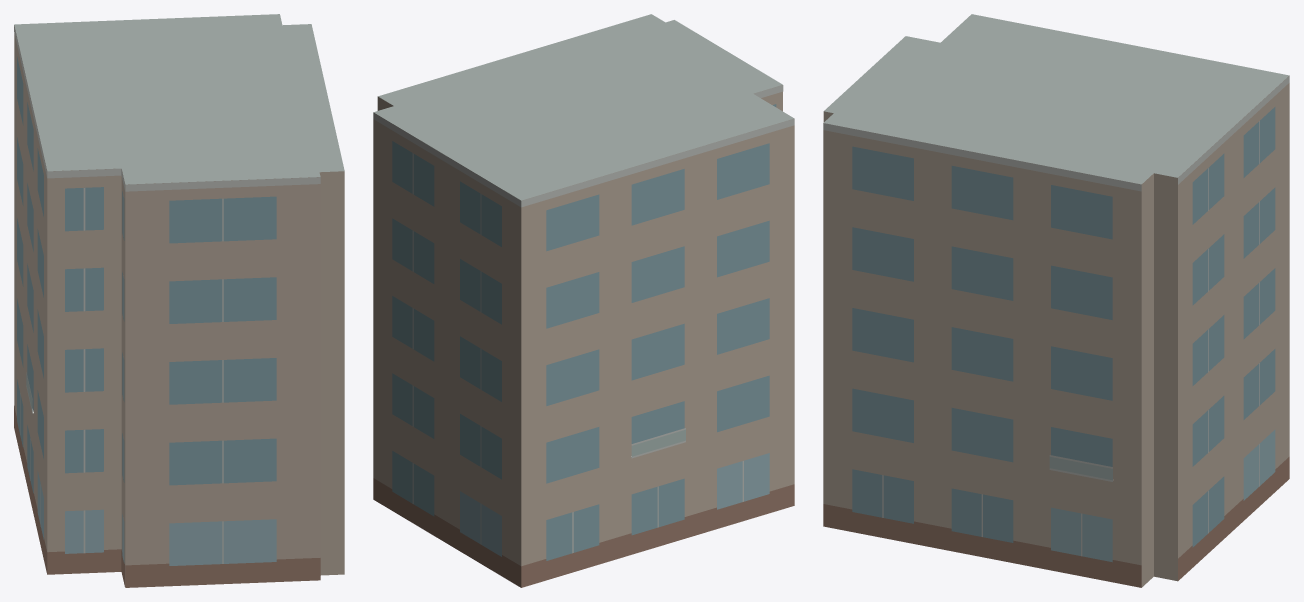
The model's file is survey-upis-32744679.glb.
The picture shows the model from 3 angles, left to right: view 1: azimuth 30°, elevation 25°; view 2: azimuth 150°, elevation 25°; view 3: azimuth 270°, elevation 25°; orthographic projection. The views are drawn at different scales.
Parts seen in each view (by area): view 1: survey-upis-32744679.tmp; view 2: survey-upis-32744679.tmp; view 3: survey-upis-32744679.tmp.
Part boxes in pixels (x1,y1,x2,y2): survey-upis-32744679.tmp: (14, 14, 344, 587); survey-upis-32744679.tmp: (373, 14, 794, 587); survey-upis-32744679.tmp: (823, 14, 1289, 587).
Bounding box in the file's own units: 12.6 × 13.9 × 14.57.
